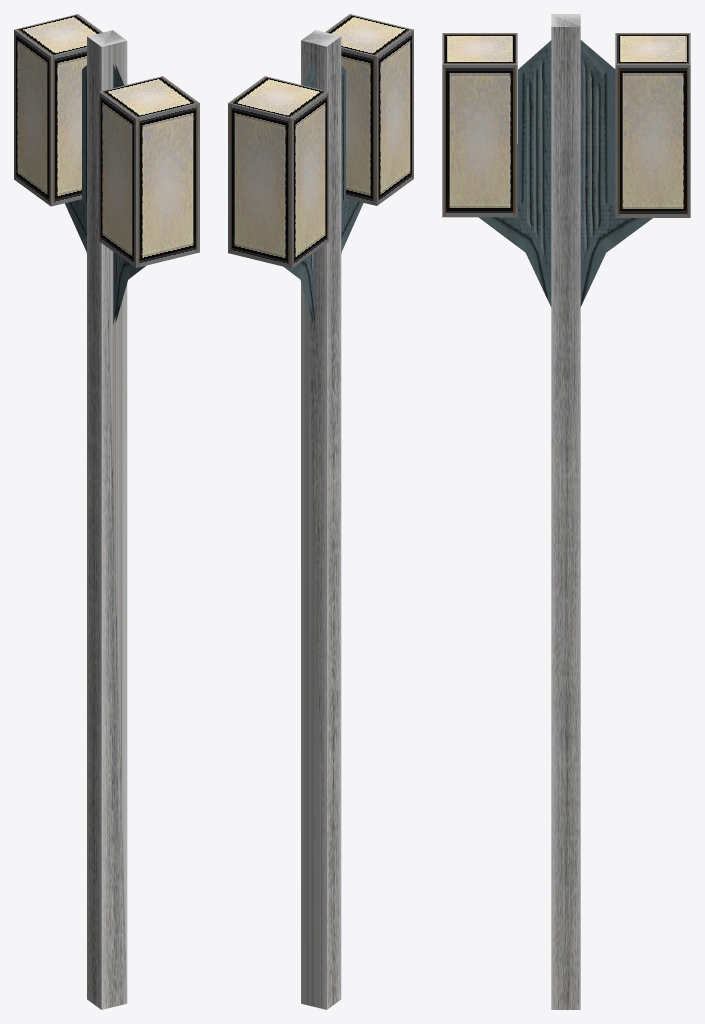
The model's file is frn_all_streetlamp_lg_s2_l1.fbx.
3 views of the same model, side by side, from view 1: azimuth 30°, elevation 25°; view 2: azimuth 150°, elevation 25°; view 3: azimuth 270°, elevation 25° (orthographic). The views are drawn at different scales.
Visible parts, largest first — view 1: mesh_node; view 2: mesh_node; view 3: mesh_node.
Boxes of the visible parts, x1,y1,x2,y2 form: mesh_node: (14,14,199,1009); mesh_node: (228,14,413,1009); mesh_node: (442,14,690,1009).
Bounding box in the file's own units: 0.2906 × 4.18 × 0.958.
